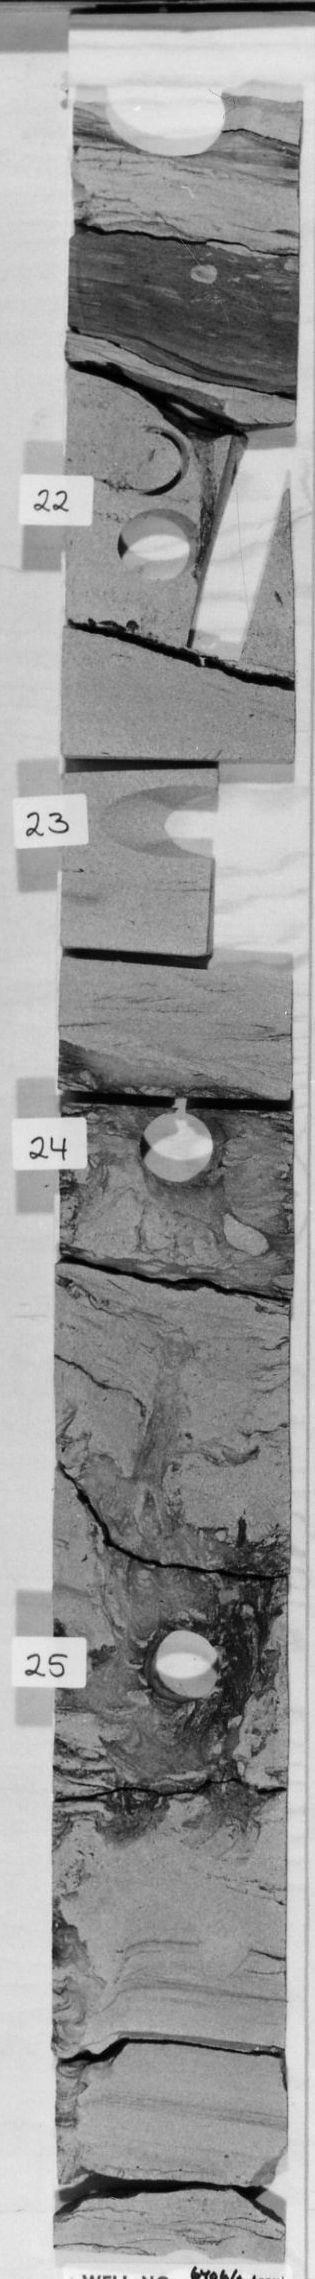hplug: (93, 779, 215, 872), (129, 1096, 229, 1199), (134, 1610, 234, 1711), (107, 503, 200, 596), (102, 419, 202, 496)
scal: (86, 89, 251, 157)
vplug: (184, 411, 293, 658), (200, 746, 290, 991)
